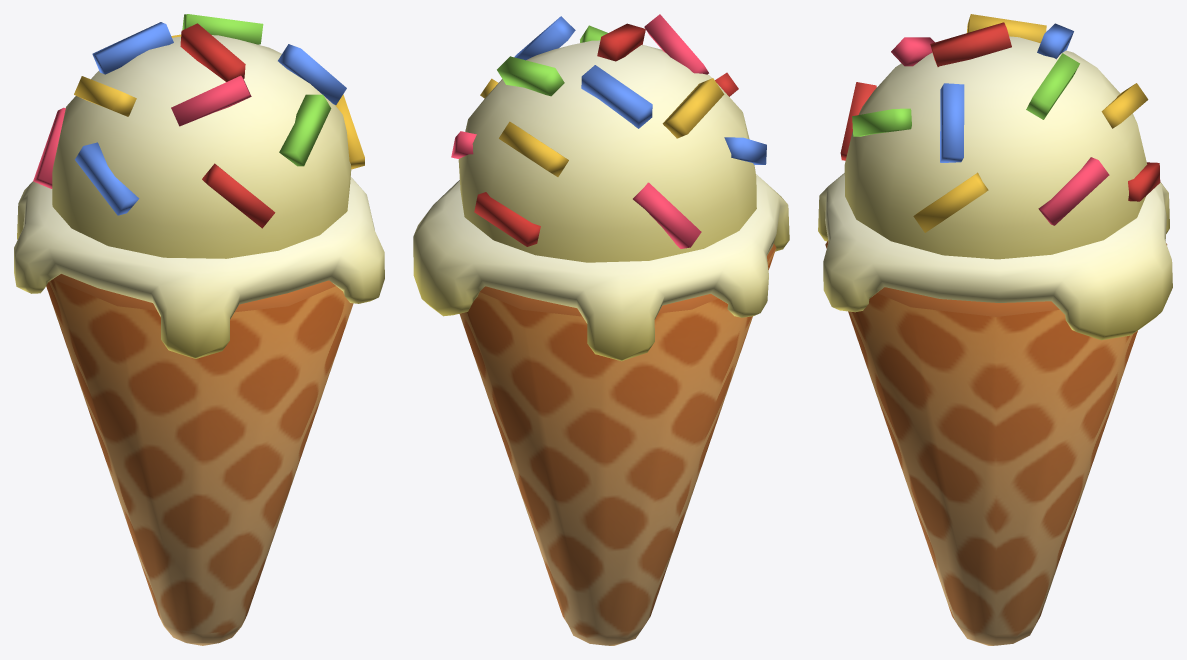
File: m_IceCream12.fbx
The picture shows the model from 3 angles, left to right: view 1: azimuth 30°, elevation 25°; view 2: azimuth 150°, elevation 25°; view 3: azimuth 270°, elevation 25°; orthographic projection.
Visible parts, largest first — view 1: m_IceCream12; view 2: m_IceCream12; view 3: m_IceCream12.
Part boxes in pixels (box(x1,y1,x2,y2)): m_IceCream12: box(14, 14, 384, 645); m_IceCream12: box(413, 14, 789, 645); m_IceCream12: box(818, 14, 1172, 645).
Bounding box in the file's own units: 9.64 × 17.61 × 9.25.
